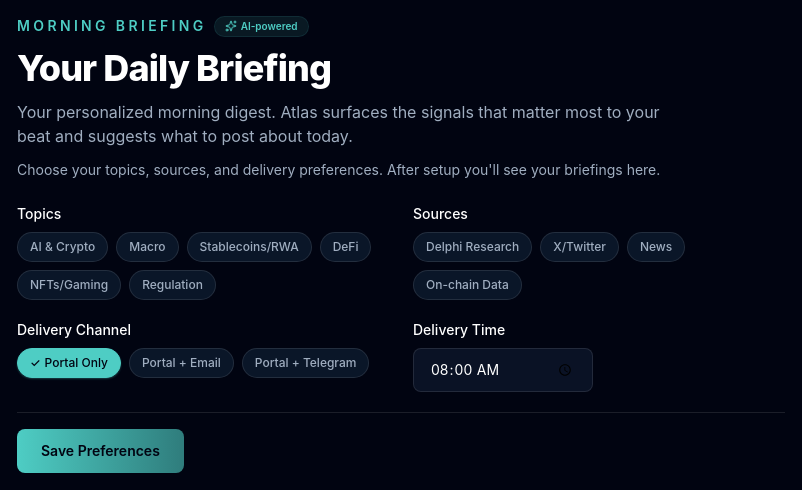
Test: BriefingPage › saves preferences and switches to inbox
Expected: the heading "Your Daily Briefing" is shown, [17, 46, 331, 90]
Click the button "DeFi": (346, 247) [320, 232, 371, 262]
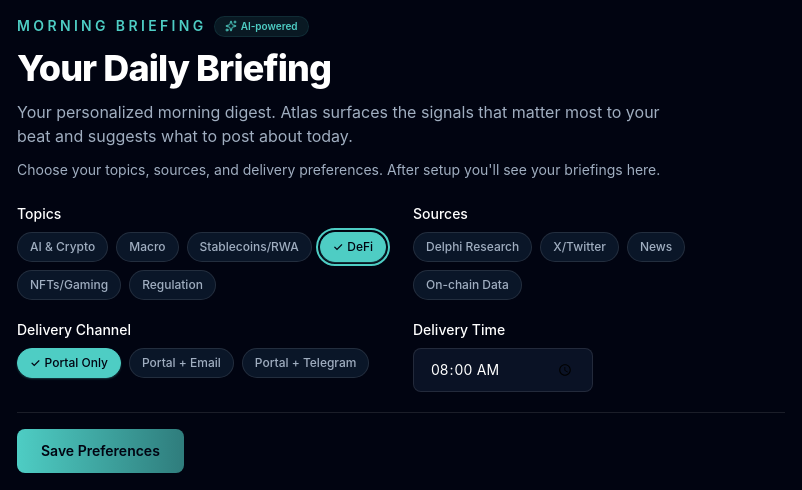
Click the button "News": (656, 247) [627, 232, 685, 262]
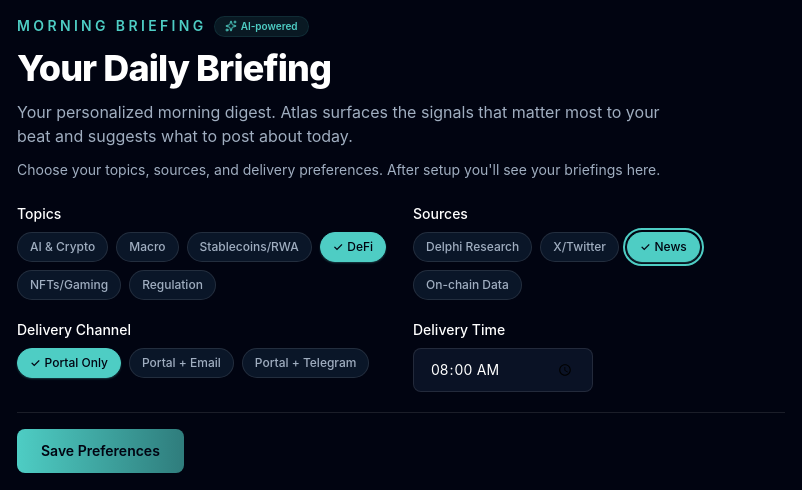
Click the button "Save Preferences": (100, 451) [17, 429, 184, 473]
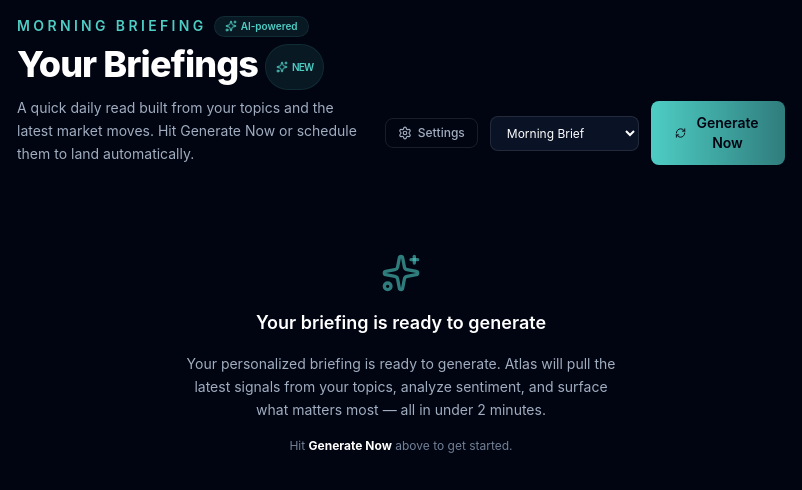
Now the heading "Your Briefings NEW" is shown, box [17, 44, 369, 89]
